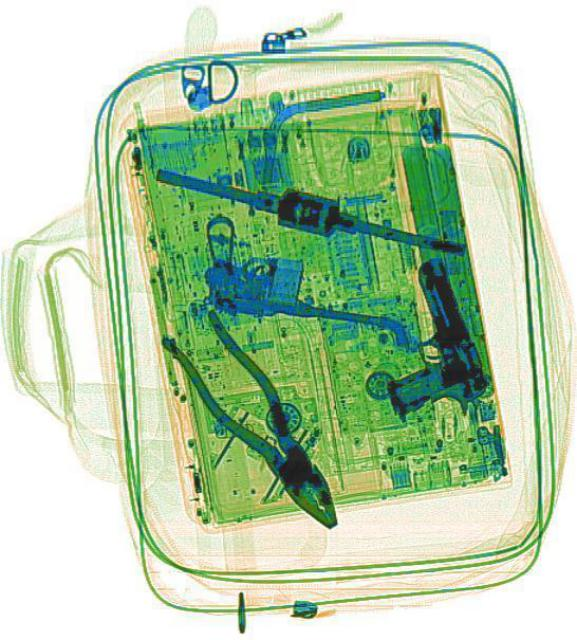Gun: (350, 252, 497, 434), (192, 212, 393, 334)
Pliers: (159, 304, 362, 544)
